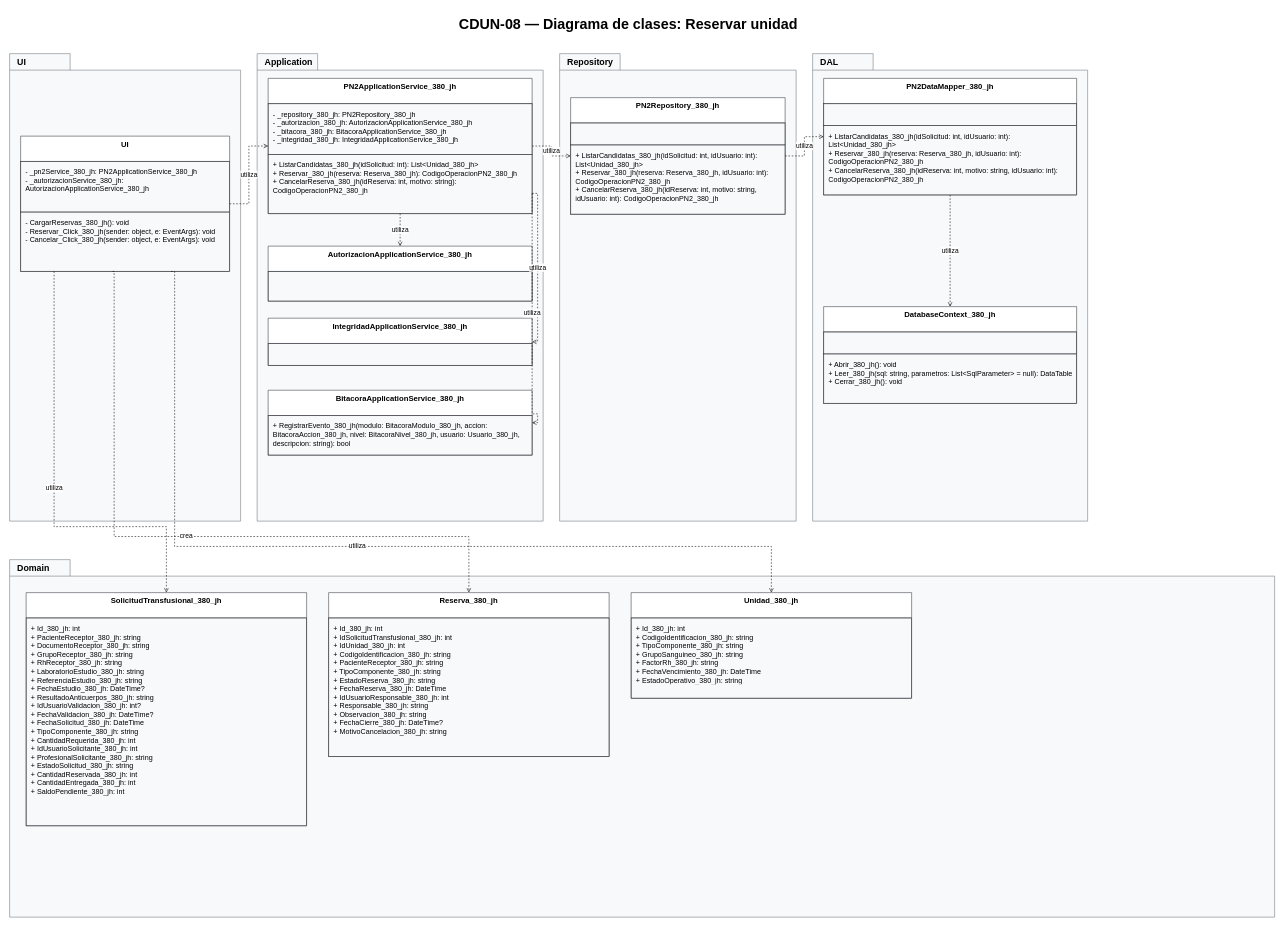
Image size: 1284x927. Some labels were removed from this diagram. The centre of each missing label's shape, as x and y in pixels:
+ Conexion_380_jh: SqlConnection: the point at 950,342
+ TienePermiso_380_jh(usuario: Usuario_380_jh, codigoPermiso: string): bool: the point at 400,286
+ Verificar_380_jh(): InformeIntegridad_380_jh: the point at 400,354
- _databaseContext_380_jh: DatabaseContext_380_jh: the point at 950,114
- _mapper_380_jh: PN2DataMapper_380_jh: the point at 677,133
